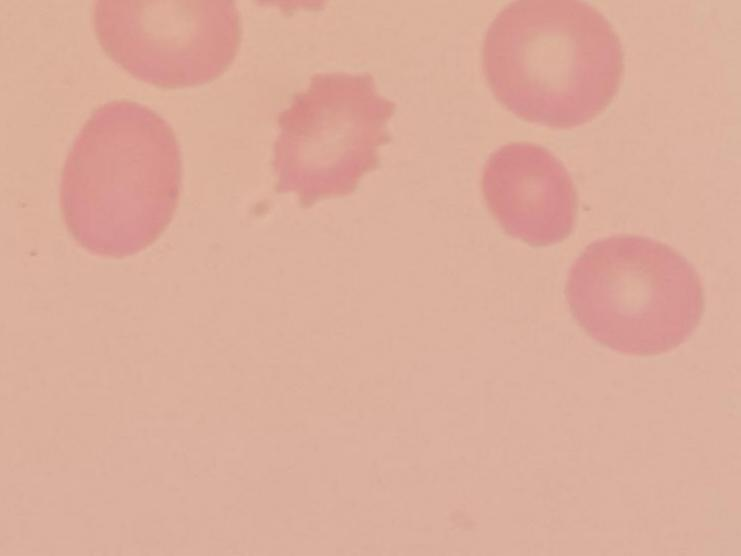Uninfected: (63, 100, 181, 260), (484, 0, 621, 130), (564, 235, 705, 360), (271, 70, 386, 208), (90, 3, 247, 91), (479, 142, 576, 245)
